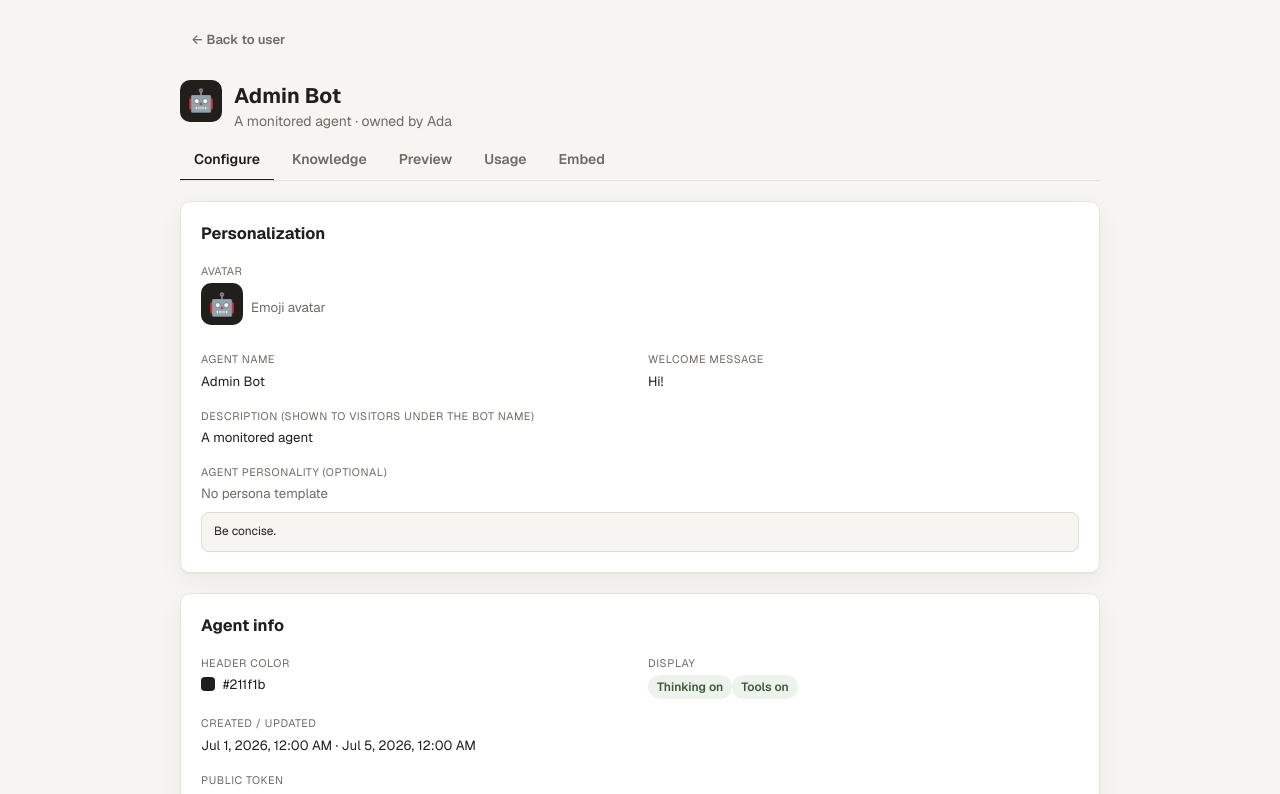
Test: AdminAgentDetailView › knowledge tab lists sources read-only (no remove buttons)
The width and height of the screenshot is (1280, 794).
Click the button with class "tab" showing "Knowledge": (329, 160) [278,140,381,181]
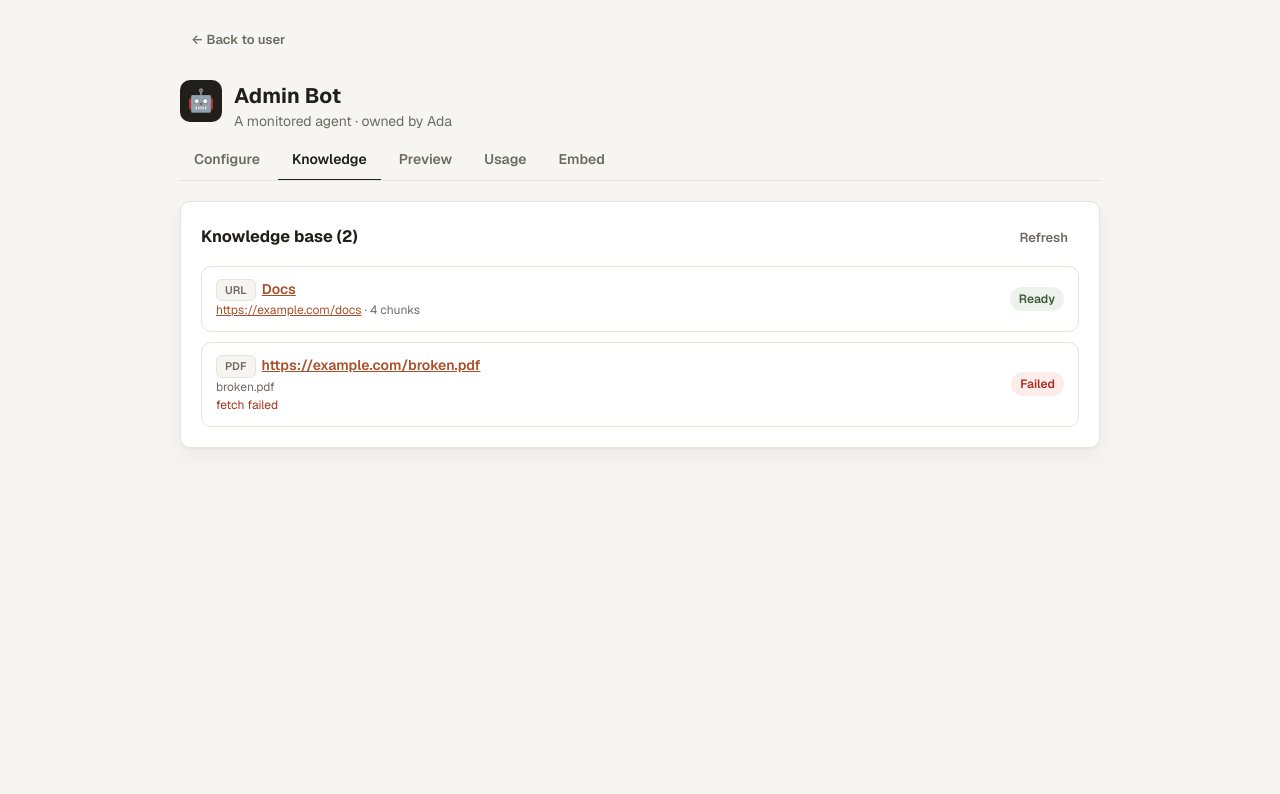
Check: the text "Docs" is shown, box [262,280,296,298]
Check: the text "broken.pdf" is shown, box [262,356,480,374]
Check: the text "failed" is shown, box [216,396,278,412]
